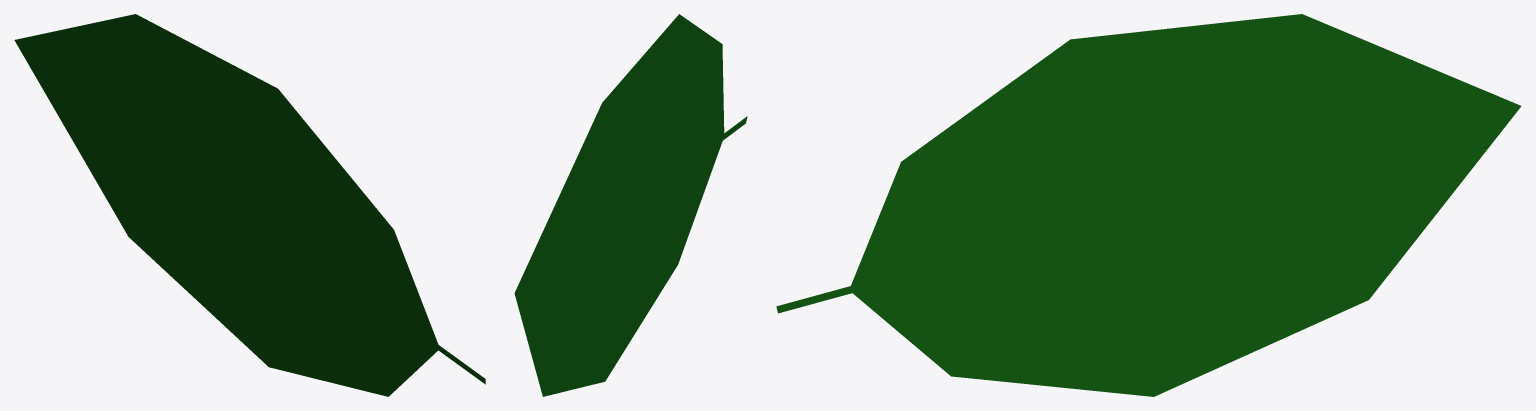
The model's file is Leaves.058.obj.
The picture shows the model from 3 angles, left to right: view 1: azimuth 30°, elevation 25°; view 2: azimuth 150°, elevation 25°; view 3: azimuth 270°, elevation 25°; orthographic projection. The views are drawn at different scales.
Parts seen in each view (by area): view 1: Leaves.058_leaves.058; view 2: Leaves.058_leaves.058; view 3: Leaves.058_leaves.058.
Boxes of the visible parts, left/top/right/bottom form: Leaves.058_leaves.058: left=14, top=14, right=485, bottom=396; Leaves.058_leaves.058: left=514, top=14, right=747, bottom=396; Leaves.058_leaves.058: left=776, top=14, right=1521, bottom=396.
Bounding box in the file's own units: 0.0317 × 0.0742 × 0.144.
